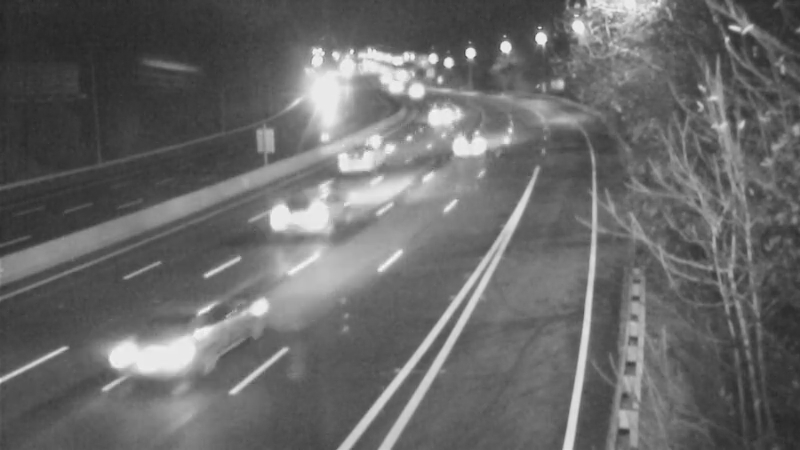vehicle: (115, 296, 225, 406), (327, 114, 407, 194), (257, 175, 337, 255), (373, 62, 423, 112), (390, 65, 440, 115), (415, 87, 465, 137), (446, 118, 496, 168), (303, 66, 353, 116)
